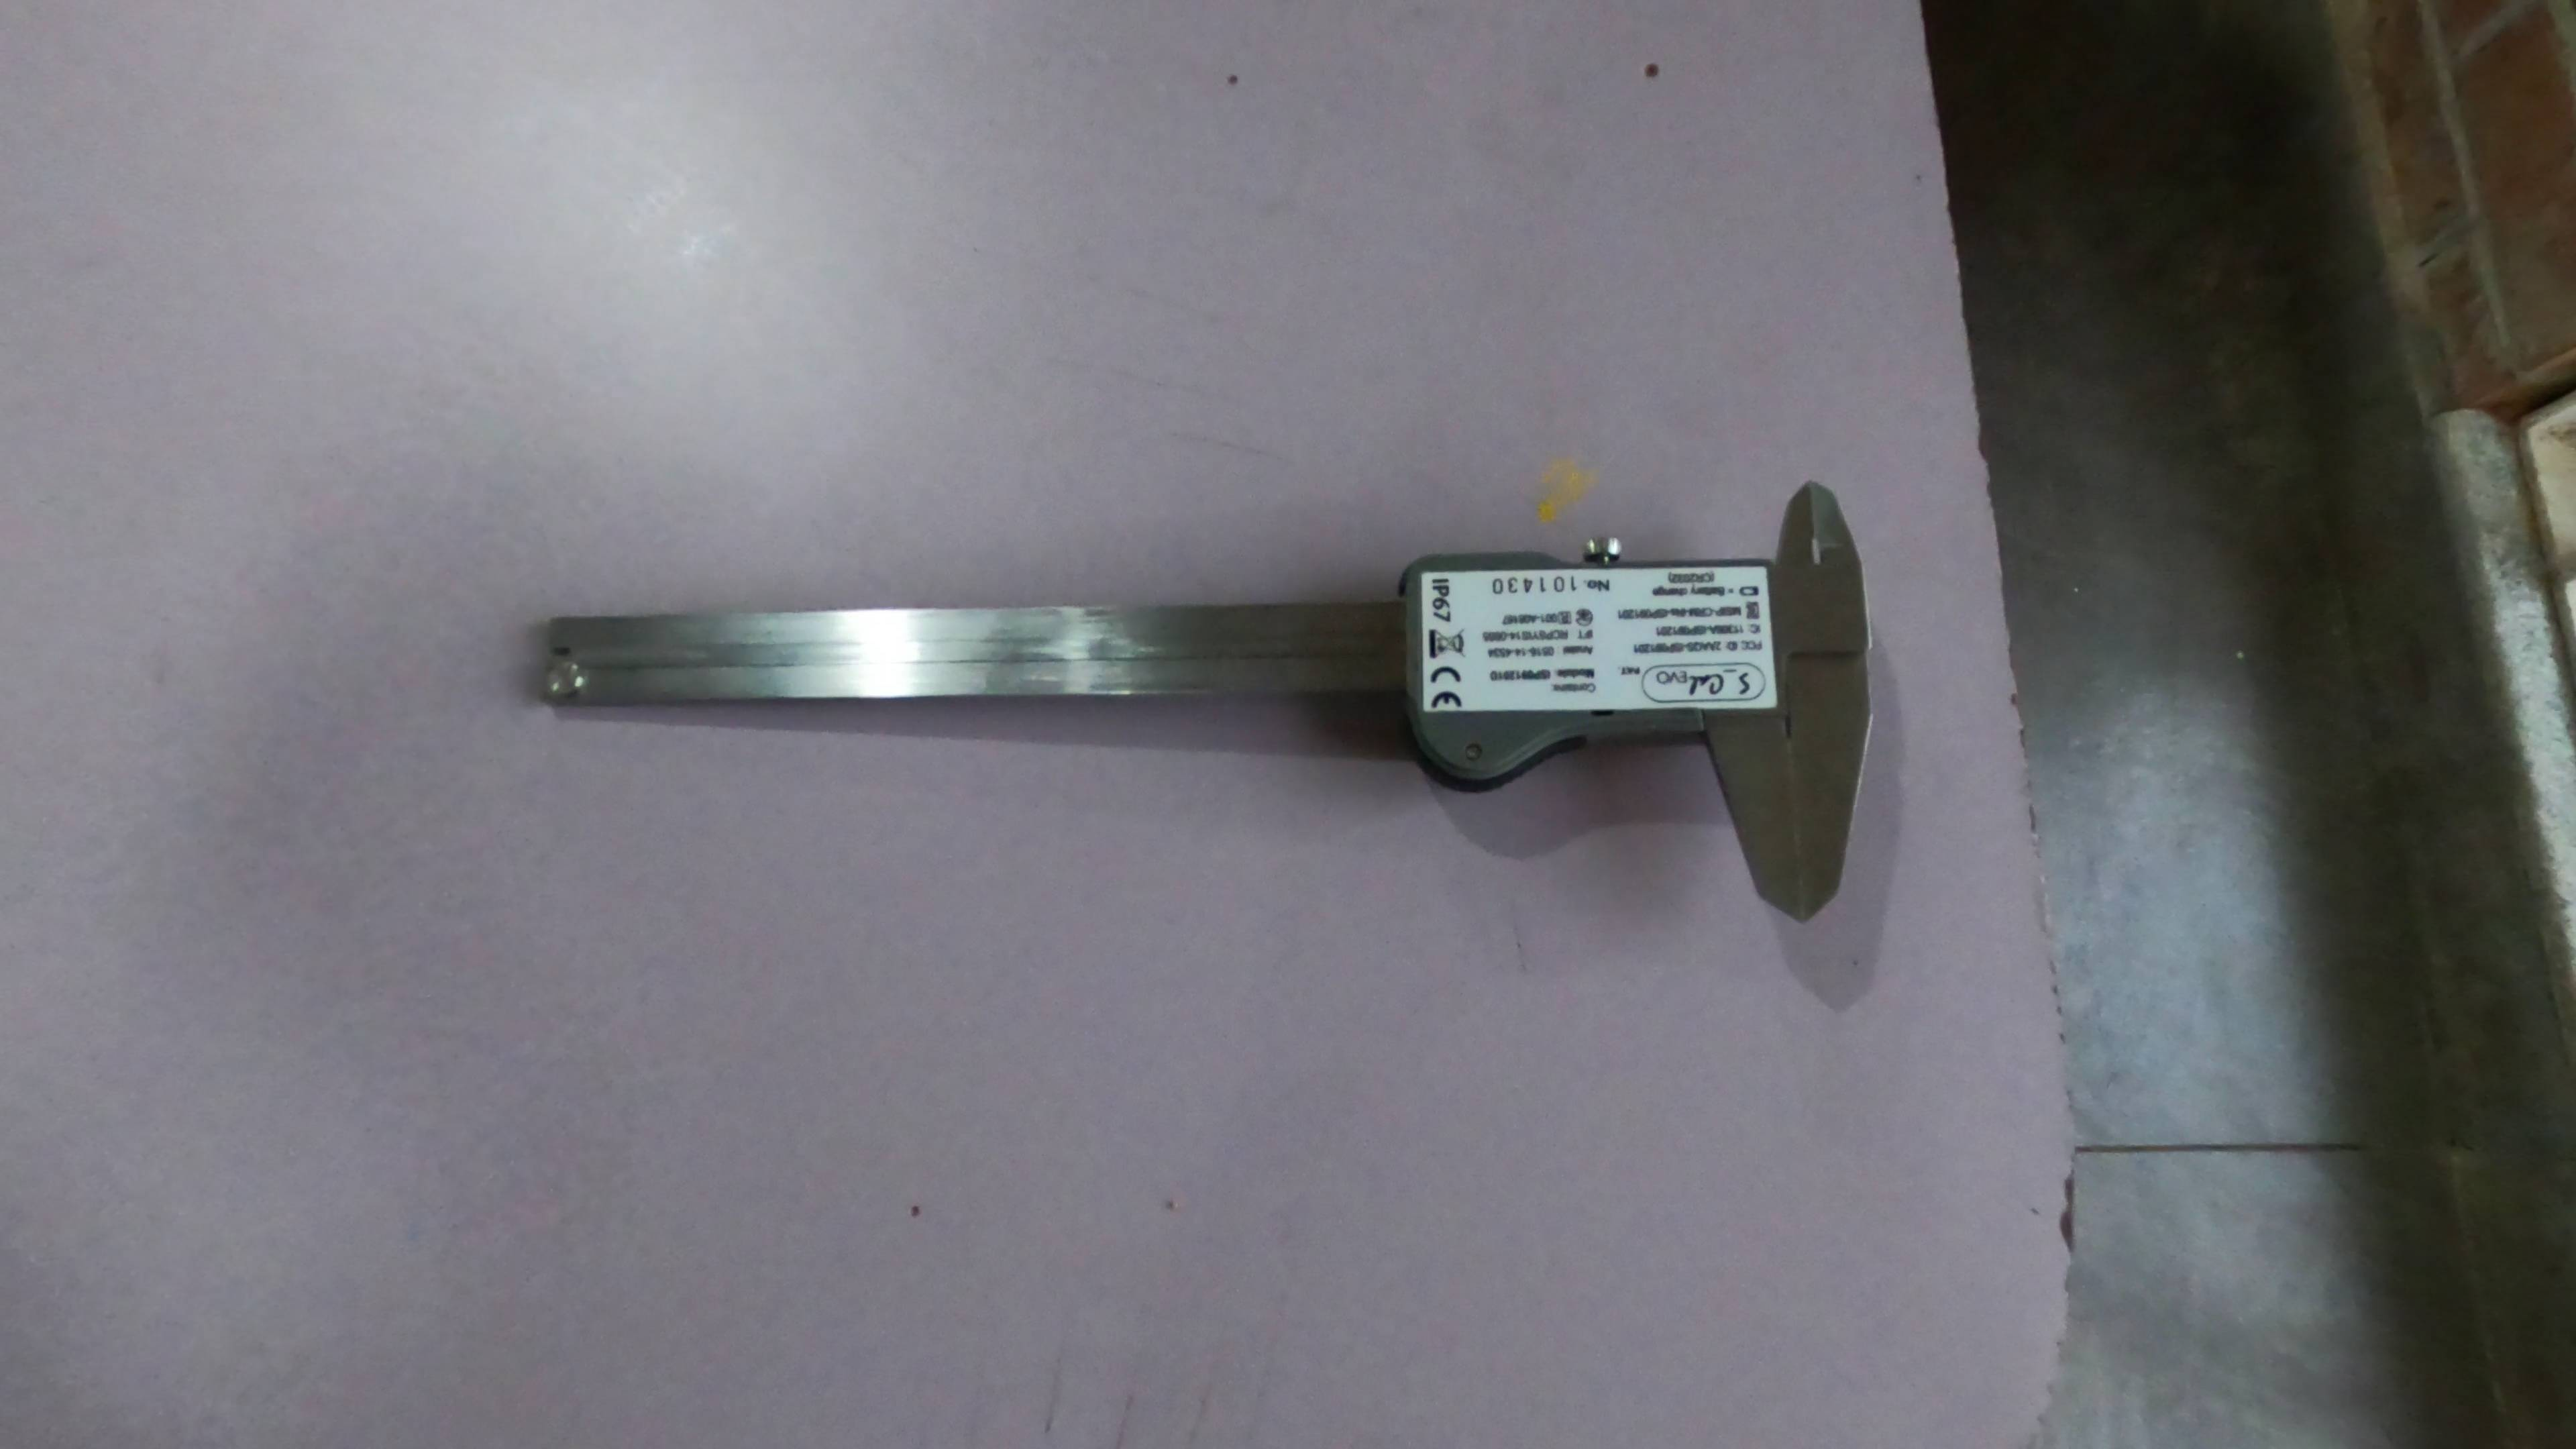vernier_caliper: (524, 478, 1875, 939)
